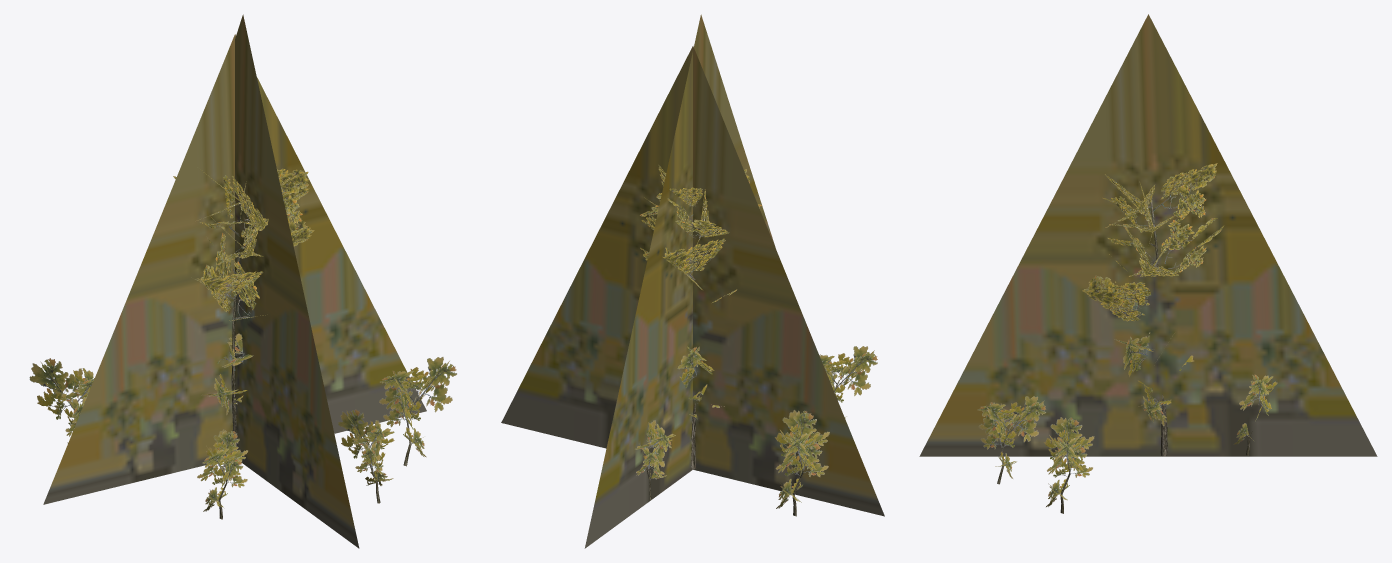
The model's file is Tree-Oak6B.fbx.
3 views of the same model, side by side, from view 1: azimuth 30°, elevation 25°; view 2: azimuth 150°, elevation 25°; view 3: azimuth 270°, elevation 25° (orthographic).
Visible parts, largest first — view 1: Billboard-Oak6B, Tree-Oak6B_LOD0; view 2: Billboard-Oak6B, Tree-Oak6B_LOD0; view 3: Billboard-Oak6B, Tree-Oak6B_LOD0.
Part boxes in pixels (left/top/right/bottom): Billboard-Oak6B: left=43, top=14, right=426, bottom=548; Tree-Oak6B_LOD0: left=29, top=168, right=456, bottom=519; Billboard-Oak6B: left=501, top=14, right=884, bottom=548; Tree-Oak6B_LOD0: left=635, top=165, right=877, bottom=516; Billboard-Oak6B: left=919, top=14, right=1377, bottom=456; Tree-Oak6B_LOD0: left=977, top=163, right=1277, bottom=513.
Size of what is drawn, in the model's own units: 1365 by 1528 by 1433.
